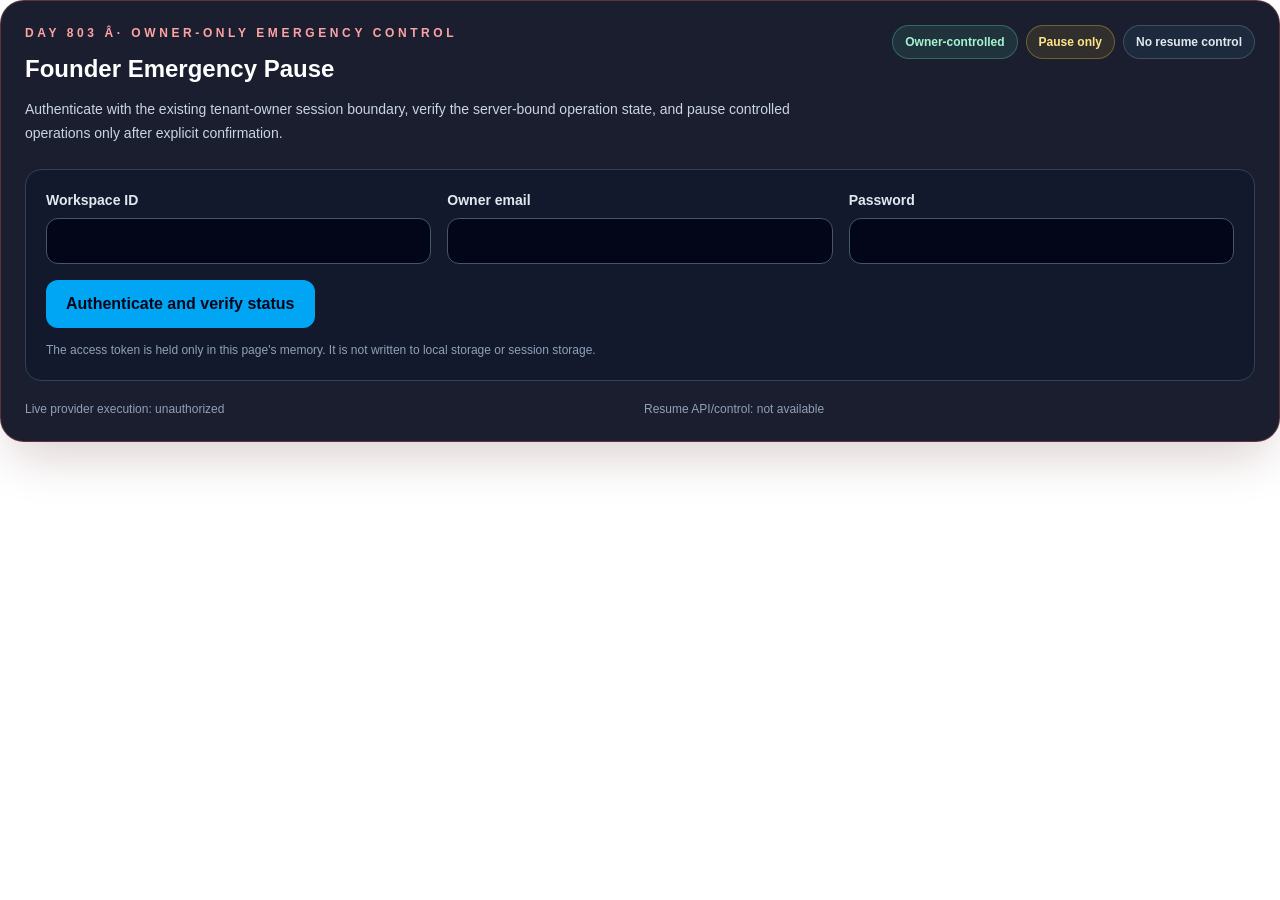
Test case: NexusFounderEmergencyControl browser interaction › authenticates through the existing session client and reads server-bound status
Type "tenant-a" into the field labelled "Workspace ID" at (239, 241), box [46,218,431,264]
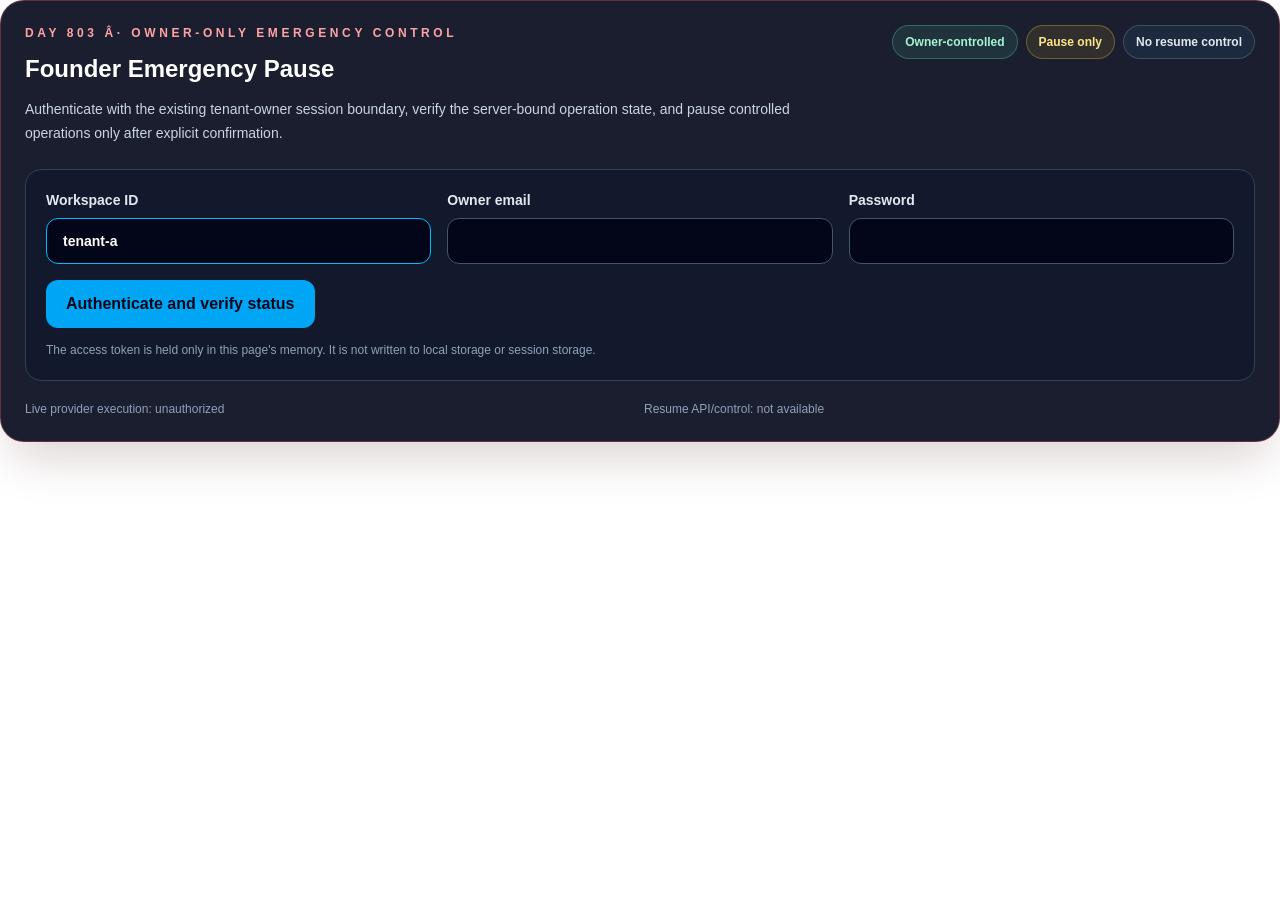
Type "owner@example.com" into the field labelled "Owner email" at (640, 241), box [447,218,833,264]
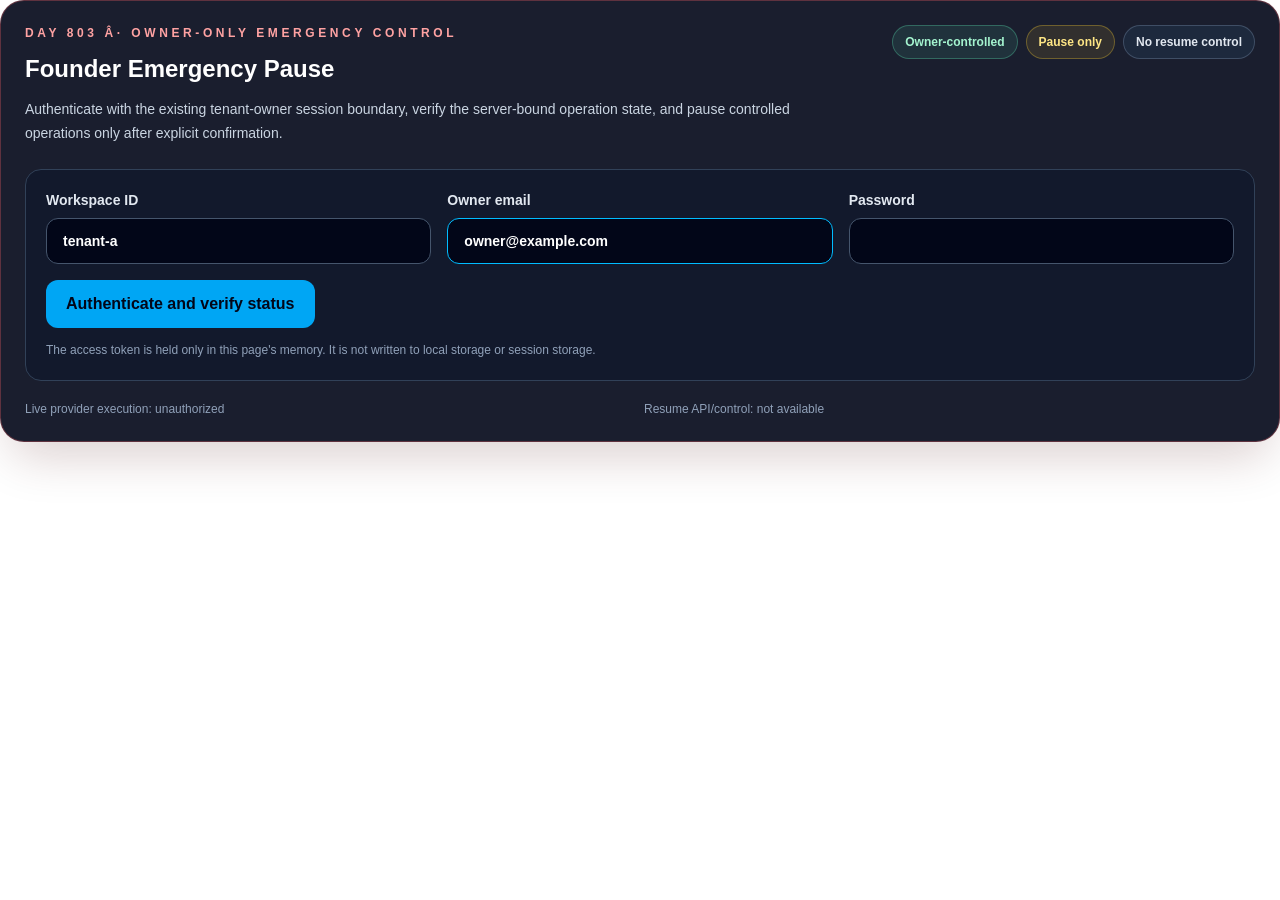
Type "secret-password" into the password field labelled "Password" at (1041, 241), box [849,218,1234,264]
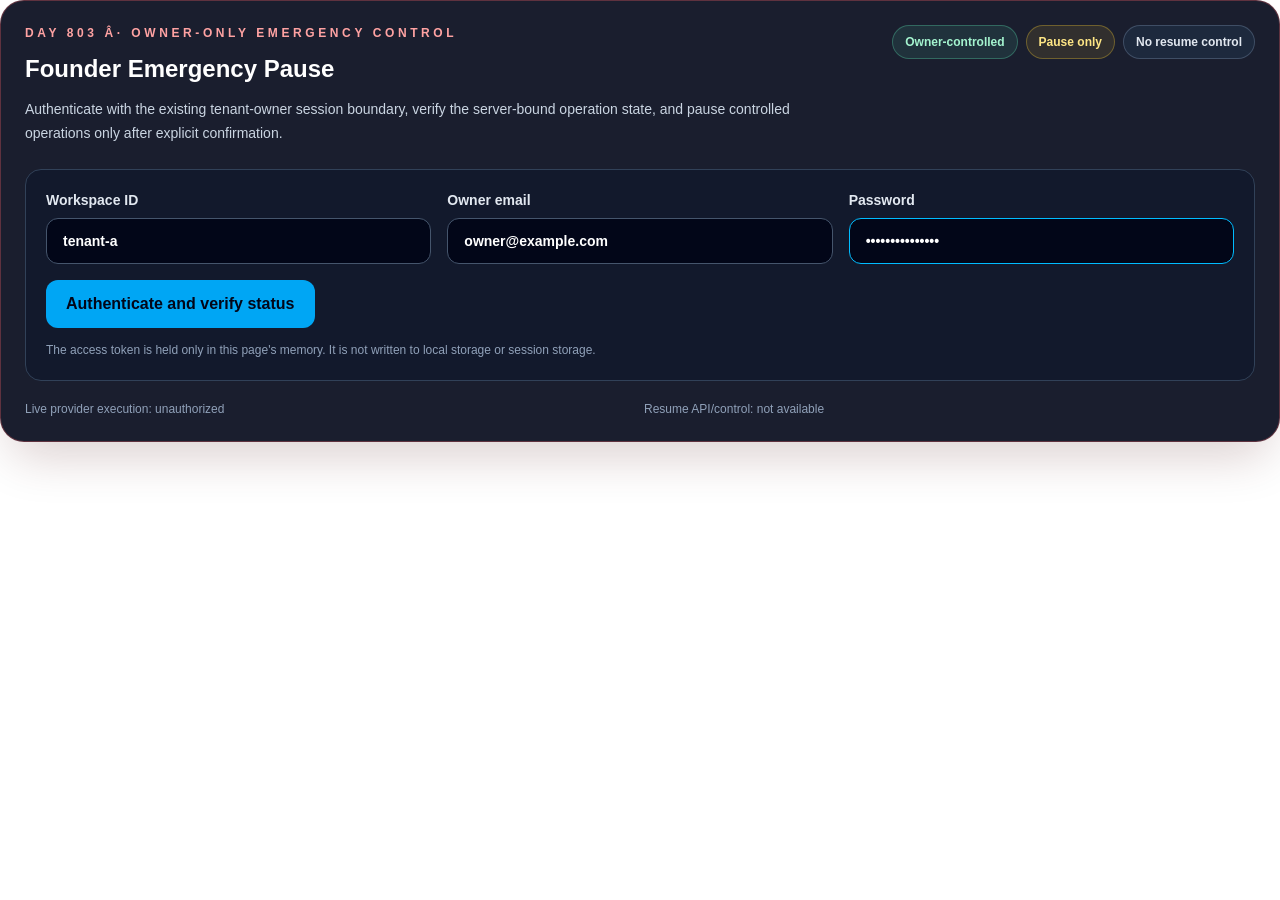
Click the button "Authenticate and verify status" at (180, 304), box [46,280,314,328]
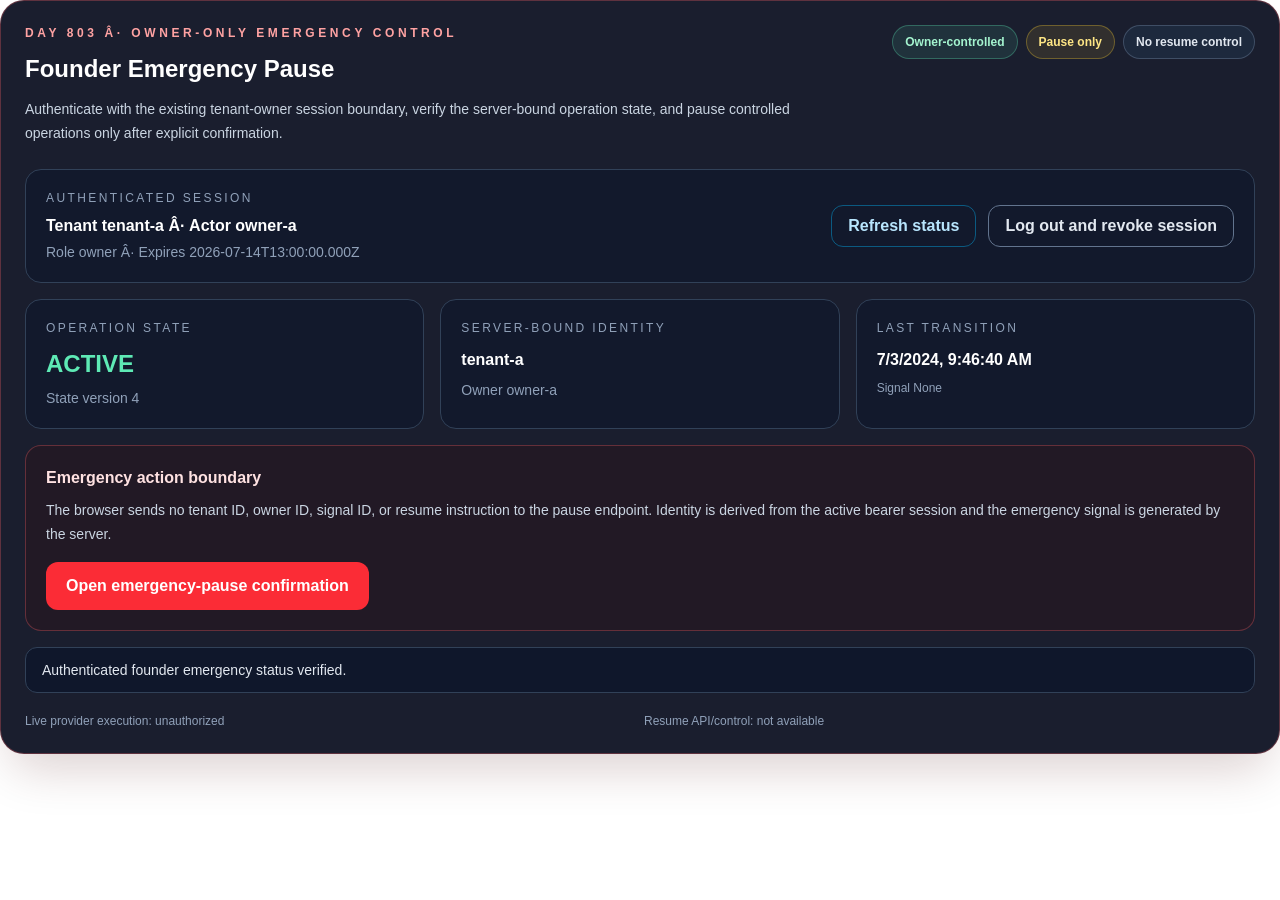
expect the text "Authenticated founder emergency status verified." is shown: met, box [25,647,1255,693]
expect the text "ACTIVE" is shown: met, box [46,350,134,377]
expect the text "tenant-a" is shown: met, box [461,351,524,368]
